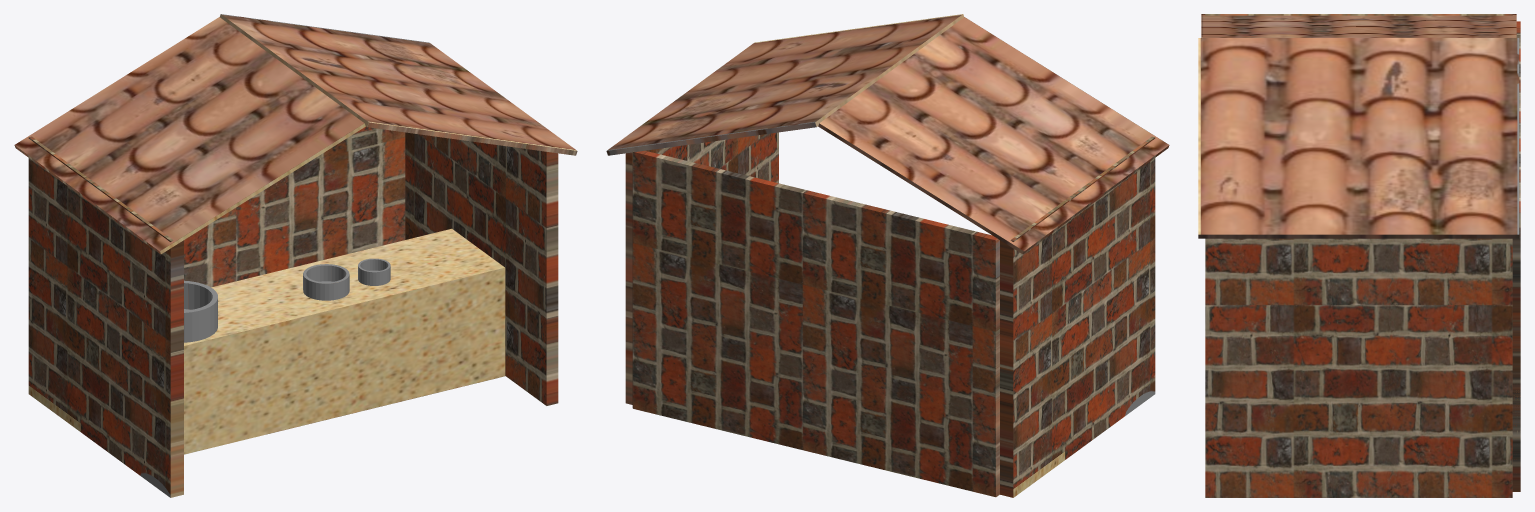
The model's file is lanchonete.fbx.
The picture shows the model from 3 angles, left to right: view 1: azimuth 30°, elevation 25°; view 2: azimuth 150°, elevation 25°; view 3: azimuth 270°, elevation 25°; orthographic projection. The views are drawn at different scales.
Visible parts, largest first — view 1: Plane.001; view 2: Plane.001; view 3: Plane.001.
Part boxes in pixels (x1,y1,x2,y2): Plane.001: (14,14,577,497); Plane.001: (606,14,1169,497); Plane.001: (1198,14,1520,497).
Bounding box in the file's own units: 339 × 257 × 210.
Materials: 1 (1 with a texture image).
